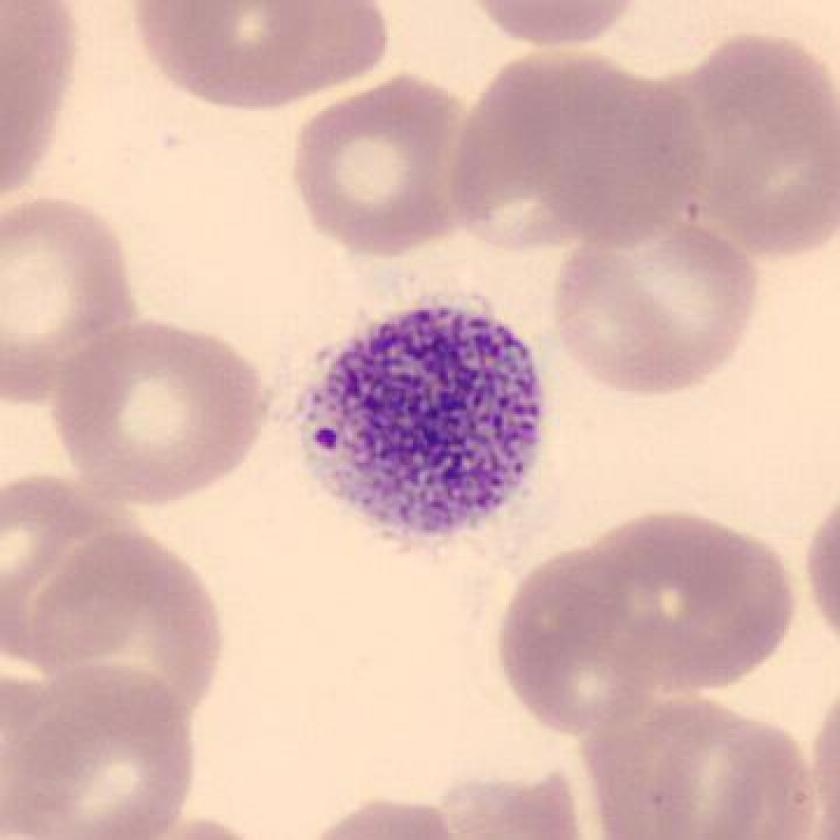platelets: (286, 288, 570, 563)
